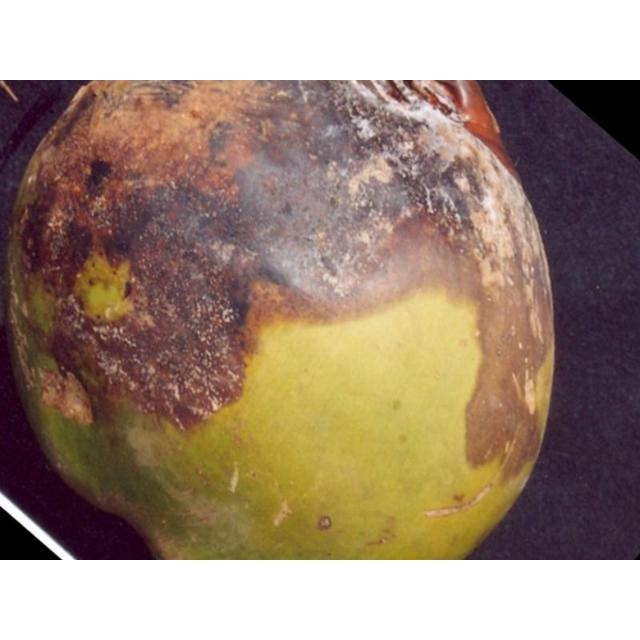damaged: (3, 80, 556, 559)
